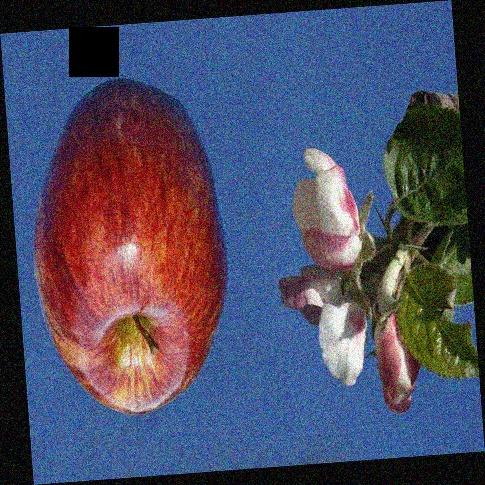red apple: (31, 79, 225, 417)
